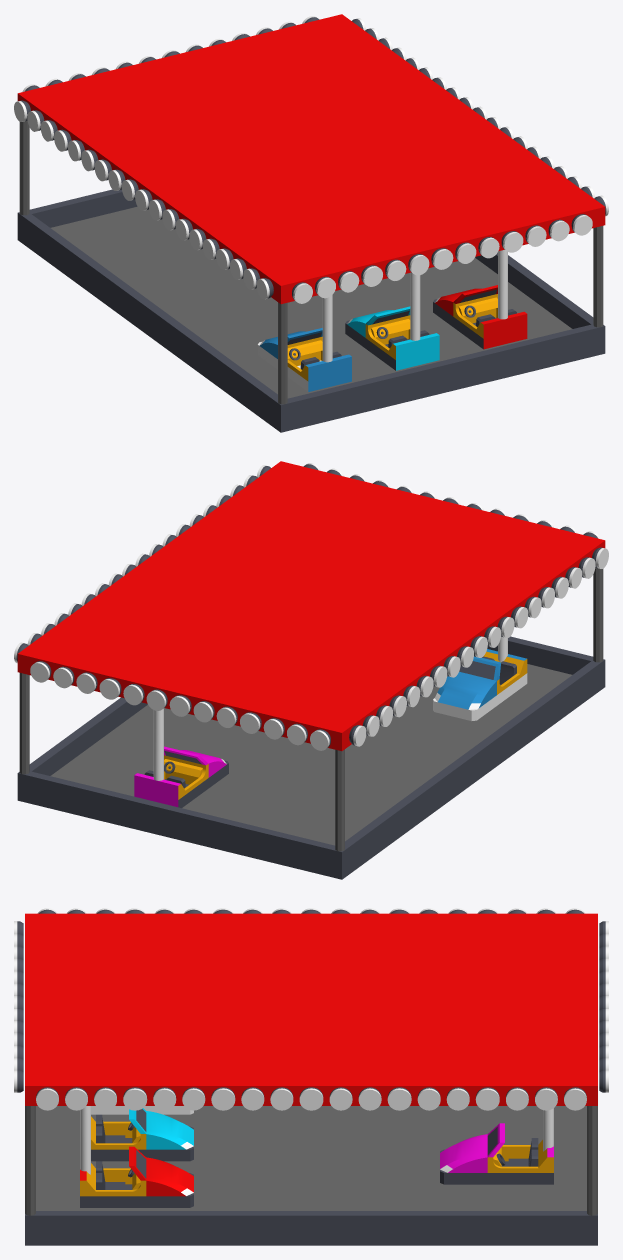
The model's file is AutoTamponeuses.fbx.
3 views of the same model, one above another, from view 1: azimuth 30°, elevation 25°; view 2: azimuth 150°, elevation 25°; view 3: azimuth 270°, elevation 25° (orthographic). The views are drawn at different scales.
Visible parts, largest first — view 1: block_default_55, block_default_30, block_default_40, block_default_41, windshield_jeep_47, windshield_jeep_50, windshield_jeep_34, block_default_44, block_default_43, detail_roofLights%_64, detail_roofLights%_69, detail_roofLights%_67 (+15 smaller); view 2: block_default_55, block_default_30, block_default_43, block_default_41, windshield_jeep_53, block_default_44, hood_sport_38, windshield_jeep_34, block_default_40, detail_roofLights%_76, detail_roofLights%_79, detail_roofLights%_77 (+12 smaller); view 3: block_default_55, block_default_30, block_default_44, windshield_jeep_53, windshield_jeep_50, windshield_jeep_47, hood_sport_52, hood_sport_49, hood_sport_46, detail_roofLights%_70, detail_roofLights%_75, detail_roofLights%_71 (+8 smaller).
Boxes of the visible parts, x1=… form: block_default_55: x1=17, y1=14, x2=605, y2=304; block_default_30: x1=51, y1=206, x2=572, y2=398; block_default_40: x1=287, y1=324, x2=596, y2=430; block_default_41: x1=17, y1=212, x2=289, y2=432; windshield_jeep_47: x1=365, y1=306, x2=439, y2=370; windshield_jeep_50: x1=453, y1=285, x2=527, y2=349; windshield_jeep_34: x1=287, y1=328, x2=351, y2=392; block_default_44: x1=475, y1=252, x2=605, y2=355; block_default_43: x1=29, y1=189, x2=137, y2=227; detail_roofLights%_64: x1=292, y1=265, x2=382, y2=303; detail_roofLights%_69: x1=505, y1=214, x2=592, y2=252; detail_roofLights%_67: x1=365, y1=248, x2=452, y2=286; block_default_55: x1=17, y1=461, x2=605, y2=751; block_default_30: x1=50, y1=664, x2=571, y2=845; block_default_43: x1=26, y1=771, x2=335, y2=877; block_default_41: x1=333, y1=659, x2=605, y2=879; windshield_jeep_53: x1=134, y1=746, x2=208, y2=807; block_default_44: x1=17, y1=697, x2=147, y2=802; hood_sport_38: x1=433, y1=671, x2=496, y2=720; windshield_jeep_34: x1=459, y1=649, x2=527, y2=705; block_default_40: x1=487, y1=636, x2=593, y2=674; detail_roofLights%_76: x1=30, y1=661, x2=117, y2=699; detail_roofLights%_79: x1=241, y1=712, x2=330, y2=750; detail_roofLights%_77: x1=100, y1=678, x2=187, y2=716; block_default_55: x1=25, y1=913, x2=597, y2=1105; block_default_30: x1=36, y1=1106, x2=586, y2=1210; block_default_44: x1=25, y1=1211, x2=597, y2=1245; windshield_jeep_53: x1=487, y1=1123, x2=553, y2=1184; windshield_jeep_50: x1=80, y1=1146, x2=146, y2=1207; windshield_jeep_47: x1=91, y1=1108, x2=146, y2=1161; hood_sport_52: x1=440, y1=1134, x2=487, y2=1184; hood_sport_49: x1=146, y1=1157, x2=193, y2=1207; hood_sport_46: x1=146, y1=1111, x2=193, y2=1161; detail_roofLights%_70: x1=36, y1=1087, x2=146, y2=1110; detail_roofLights%_75: x1=477, y1=1087, x2=586, y2=1110; detail_roofLights%_71: x1=124, y1=1087, x2=234, y2=1110.
Size of the model in its own units: 39 by 16.08 by 54.
